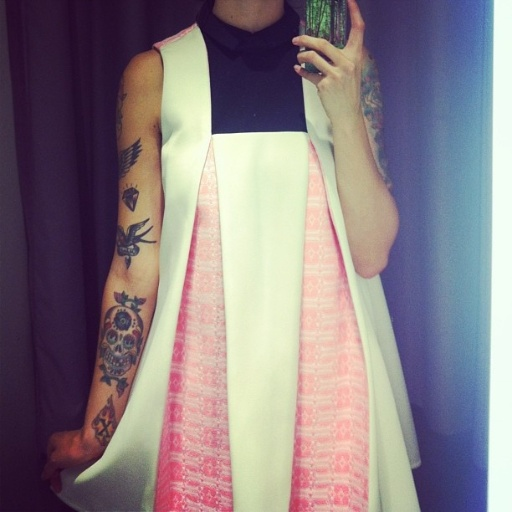hand: (290, 0, 366, 120), (37, 430, 102, 490)
